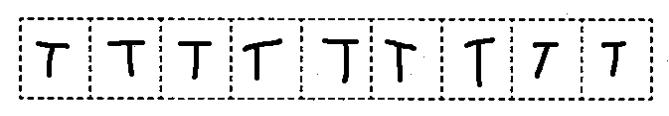T: (316, 32, 362, 90), (376, 33, 424, 85), (457, 34, 501, 89), (103, 34, 152, 82), (239, 35, 286, 83), (30, 36, 75, 83), (171, 36, 216, 83), (594, 38, 636, 82), (526, 37, 562, 86)
